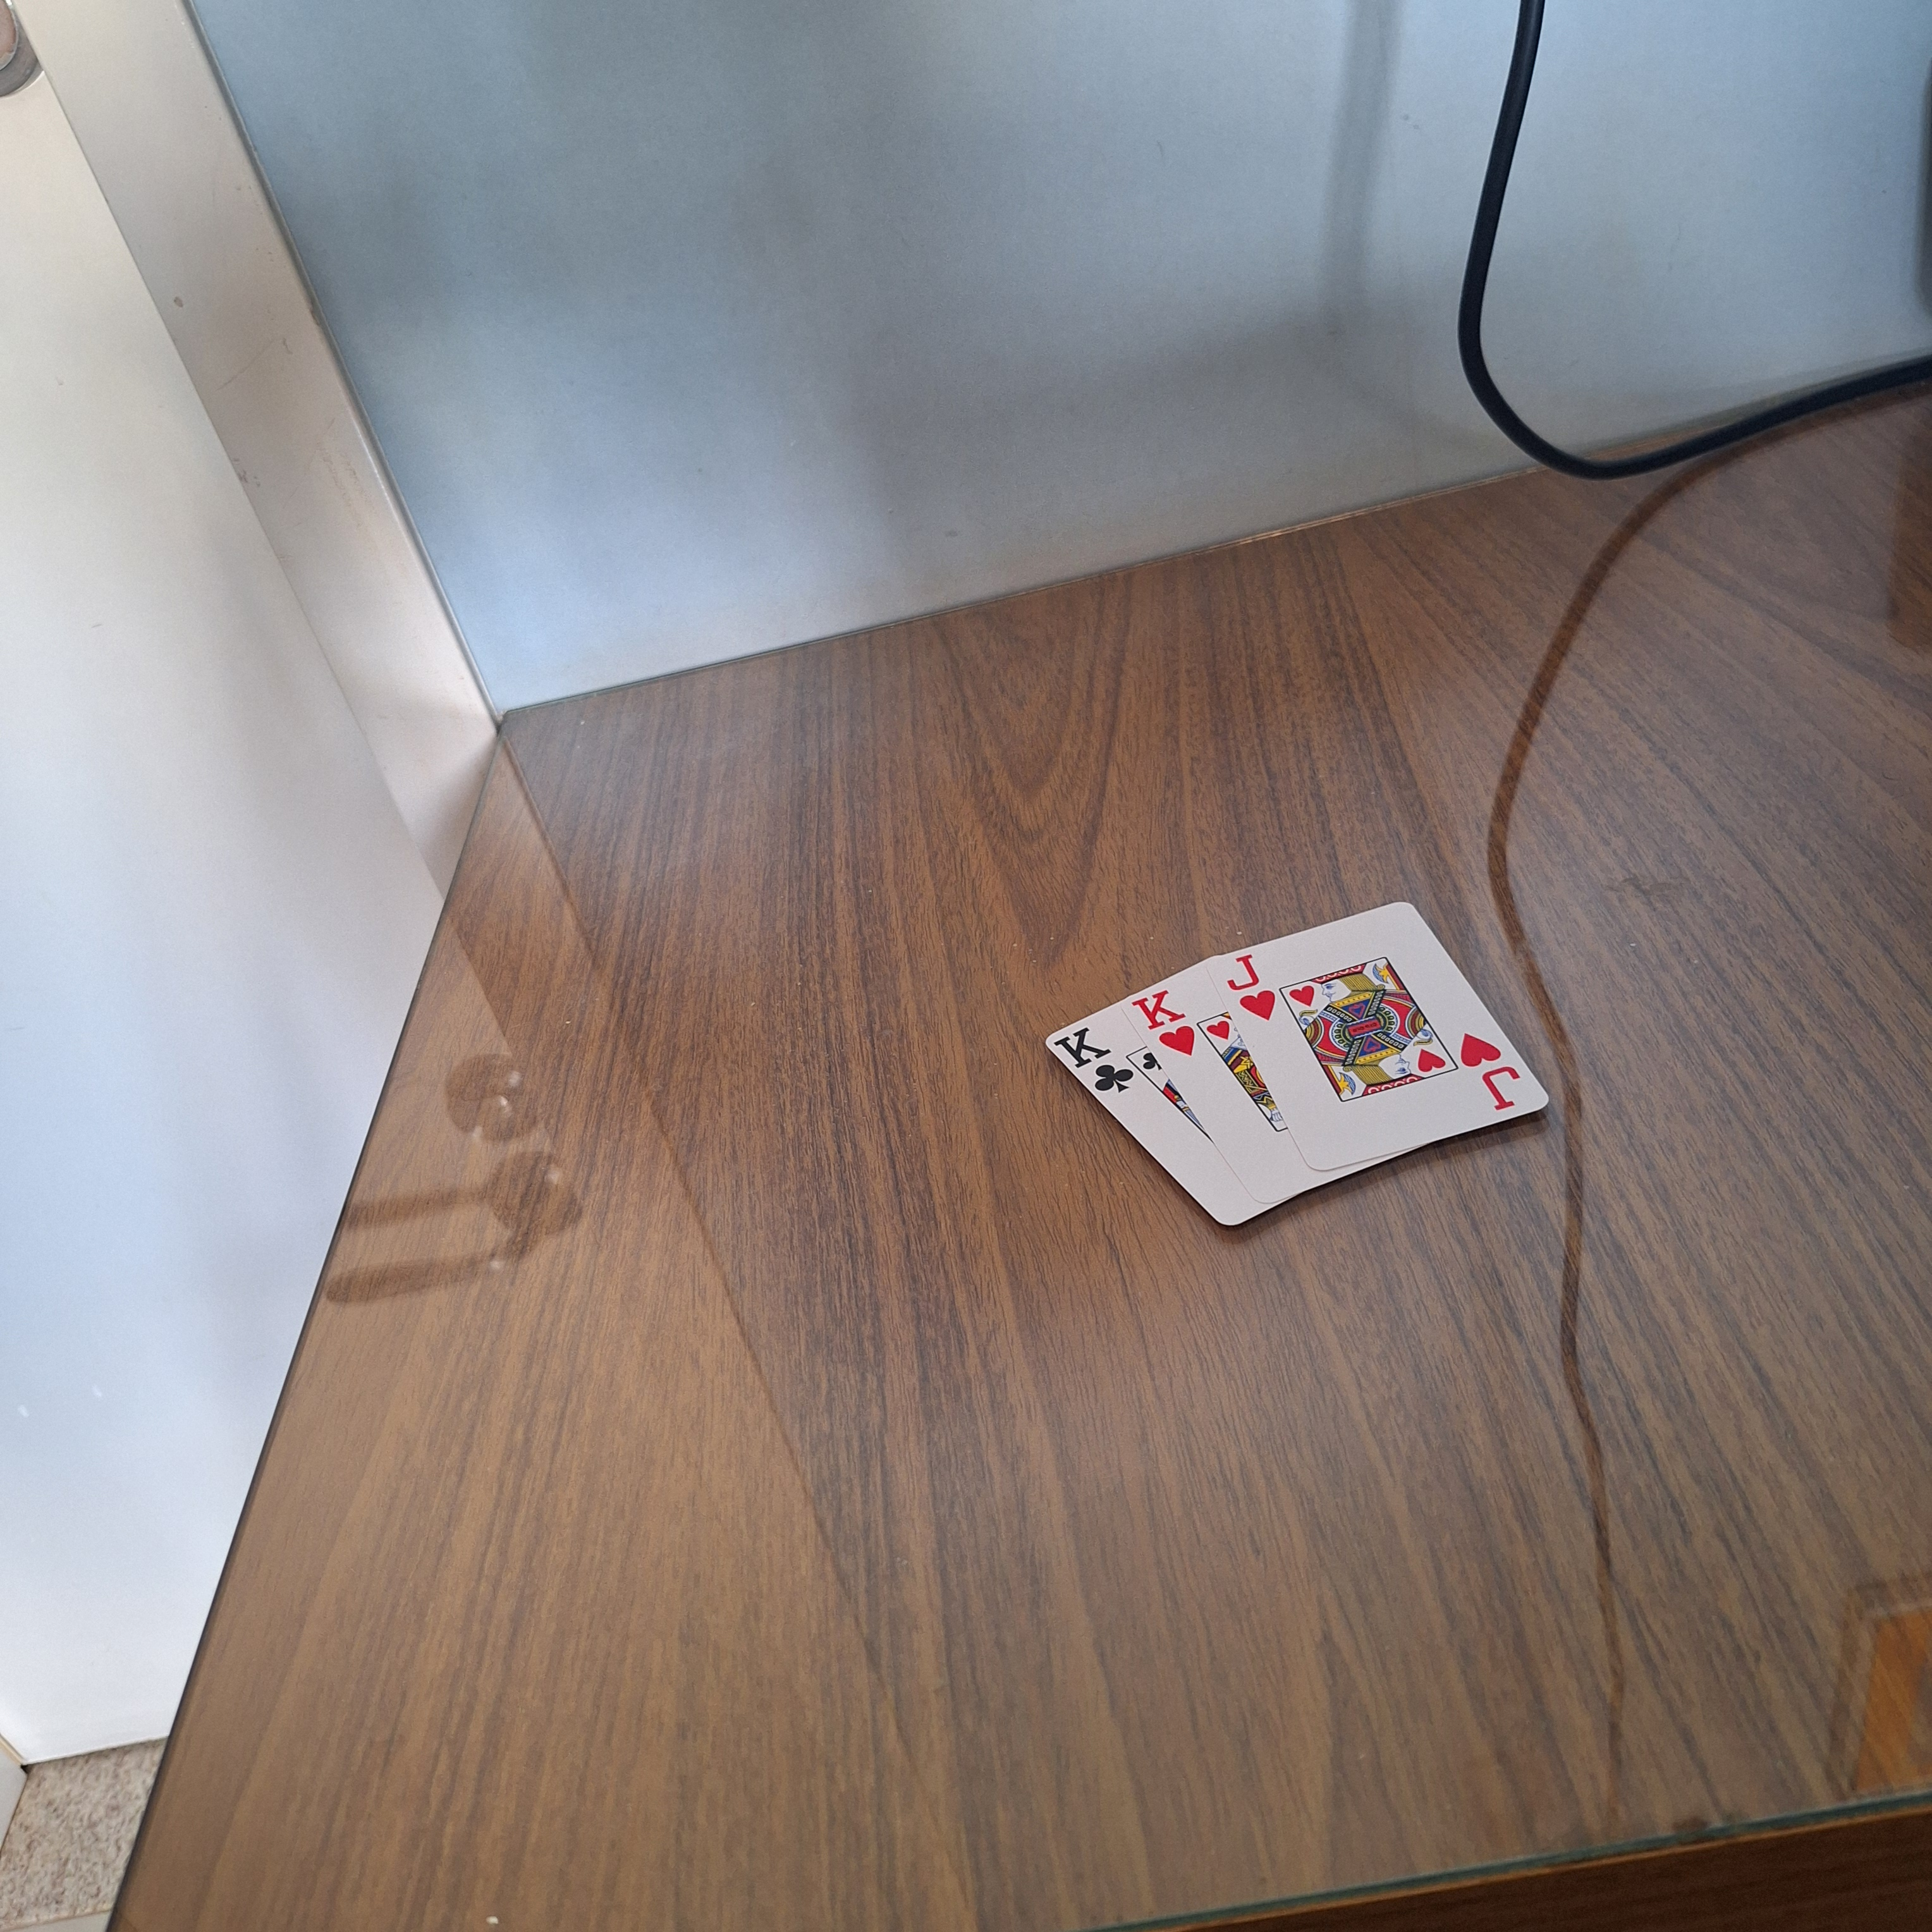JC: (1445, 1016, 1536, 1125), (1215, 943, 1283, 1028)
KC: (1125, 980, 1210, 1062)
KP: (1044, 1019, 1139, 1108)
